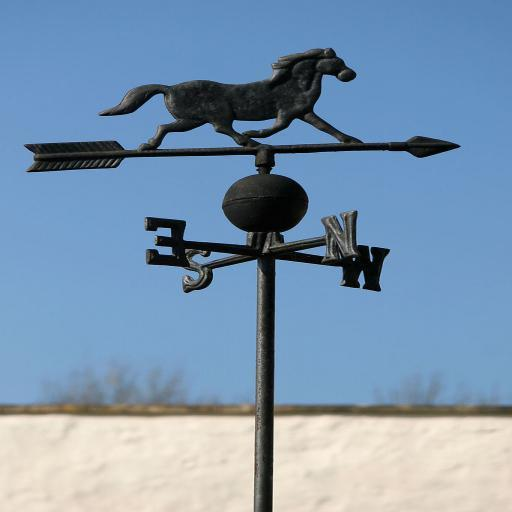horse: (96, 48, 370, 152)
